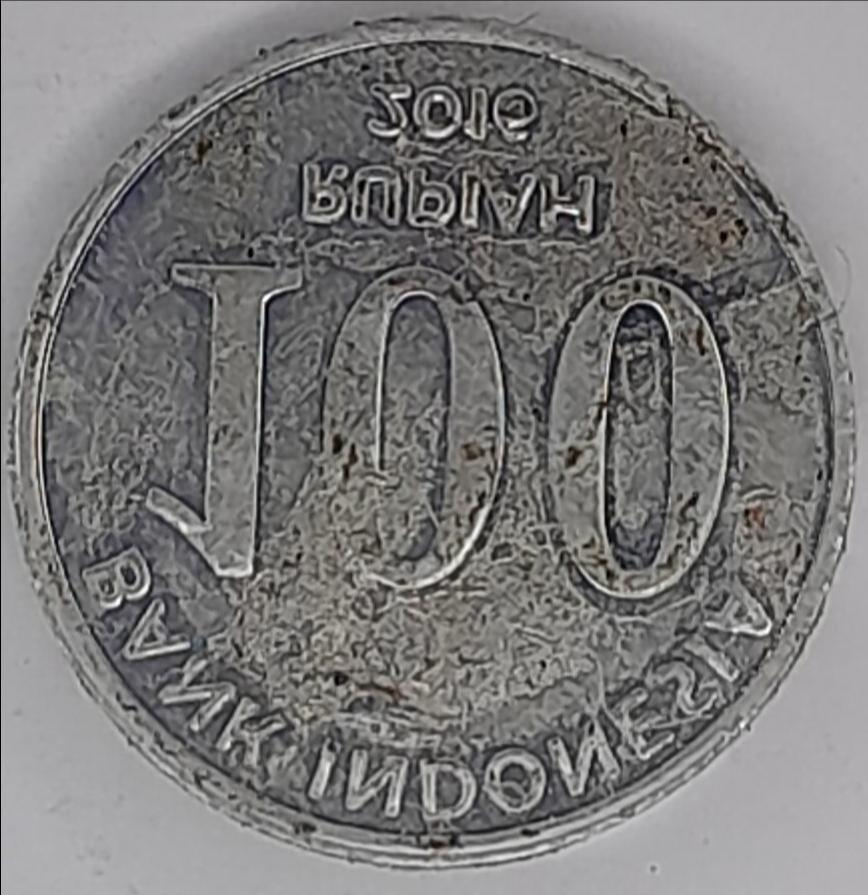coin_100_e2016: (3, 5, 863, 872)
